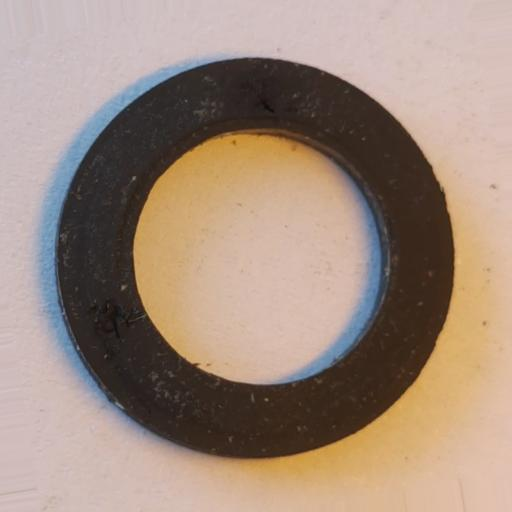defect: (88, 297, 148, 341), (241, 77, 280, 116)
